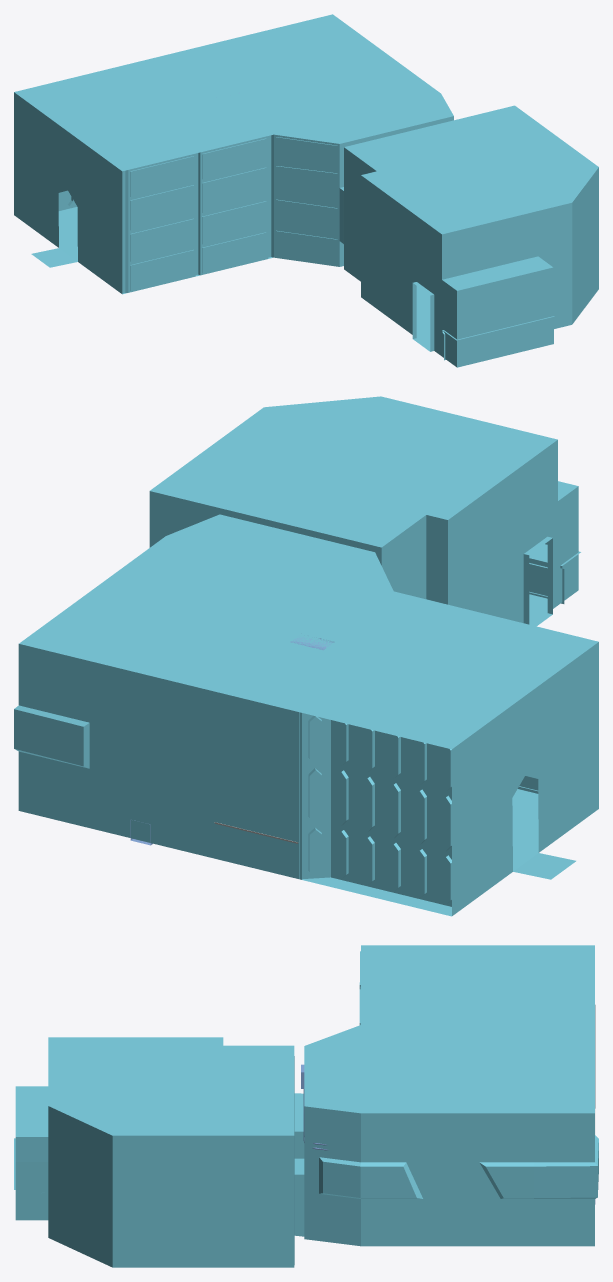
File: CyberSpace.fbx
The picture shows the model from 3 angles, top to bottom: view 1: azimuth 30°, elevation 25°; view 2: azimuth 150°, elevation 25°; view 3: azimuth 270°, elevation 25°; orthographic projection. The views are drawn at different scales.
Visible parts, largest first — view 1: IT Support, CyberZone, CyberZoneWall; view 2: CyberZone, IT Support, CyberWallPanel, SideCabinent; view 3: CyberZone, IT Support.
Part boxes in pixels (bbox=[...]): IT Support: bbox=[342, 105, 598, 367]; CyberZone: bbox=[14, 14, 453, 294]; CyberZoneWall: bbox=[122, 134, 339, 293]; CyberZone: bbox=[14, 514, 598, 916]; IT Support: bbox=[149, 396, 578, 626]; CyberWallPanel: bbox=[299, 712, 451, 906]; SideCabinent: bbox=[529, 544, 580, 603]; CyberZone: bbox=[294, 945, 598, 1246]; IT Support: bbox=[15, 1037, 304, 1267].
Size of the model in its own units: 1311 by 402 by 1578.
